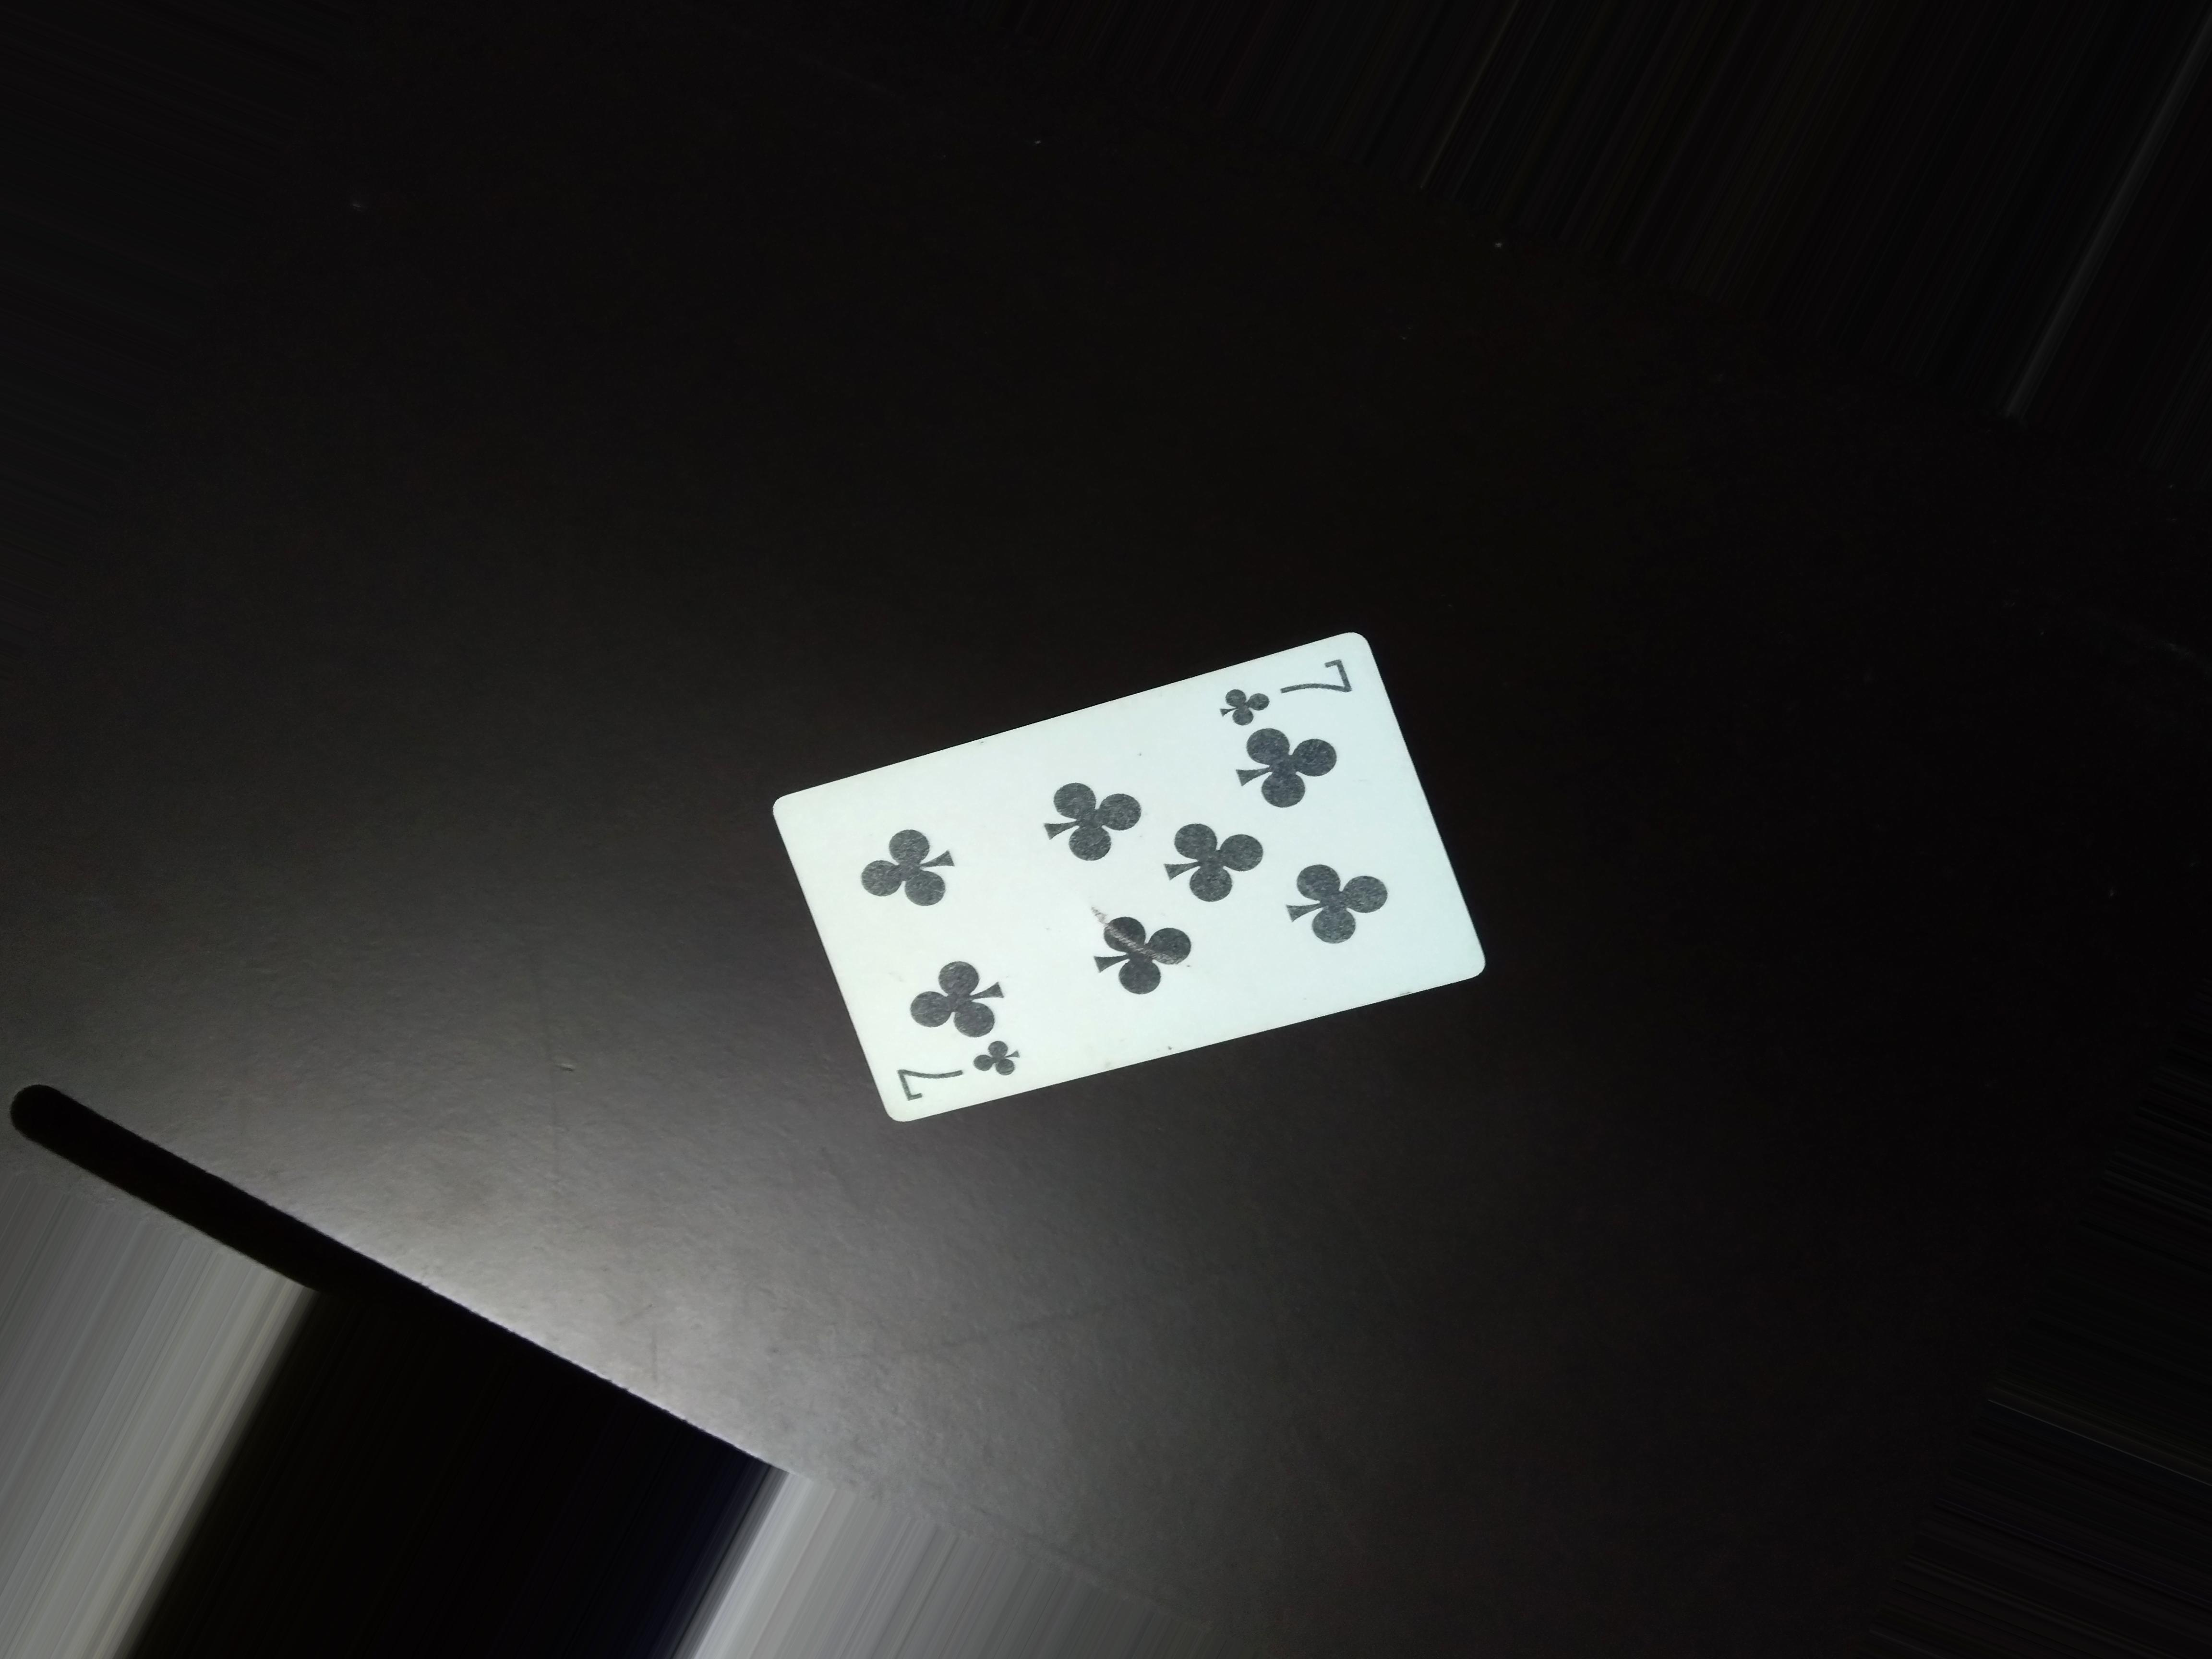7C: (1214, 652, 1376, 732)
